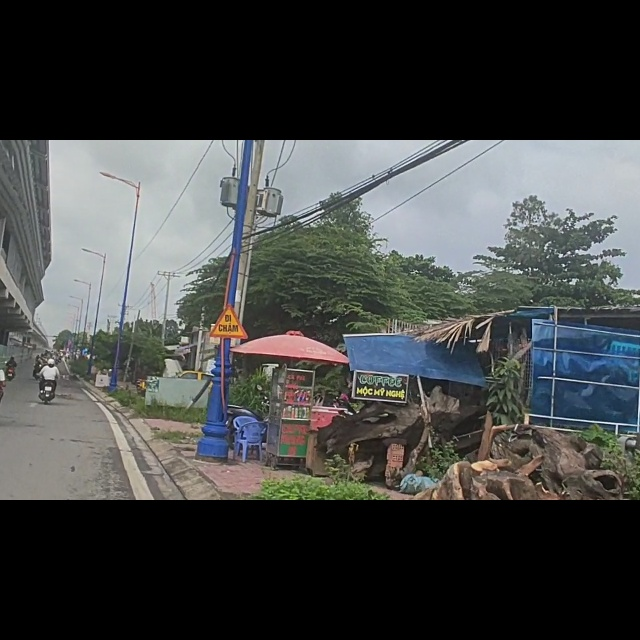bien_nguy_hiem: (209, 289, 249, 354)
